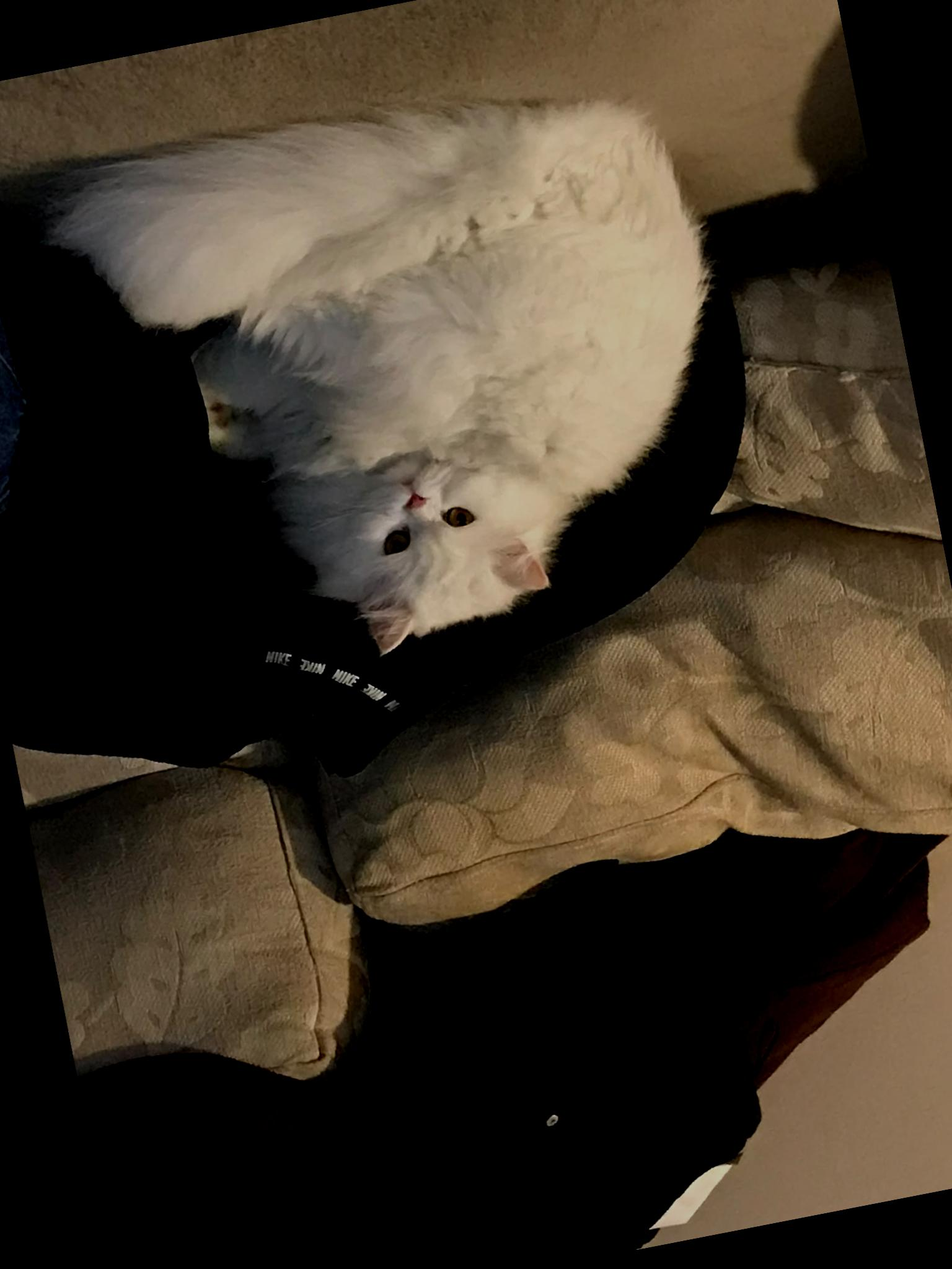macka: (26, 52, 778, 710)
